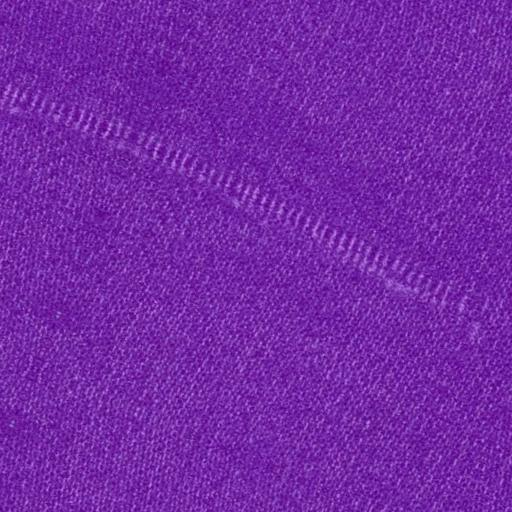slub: (0, 77, 473, 321)
